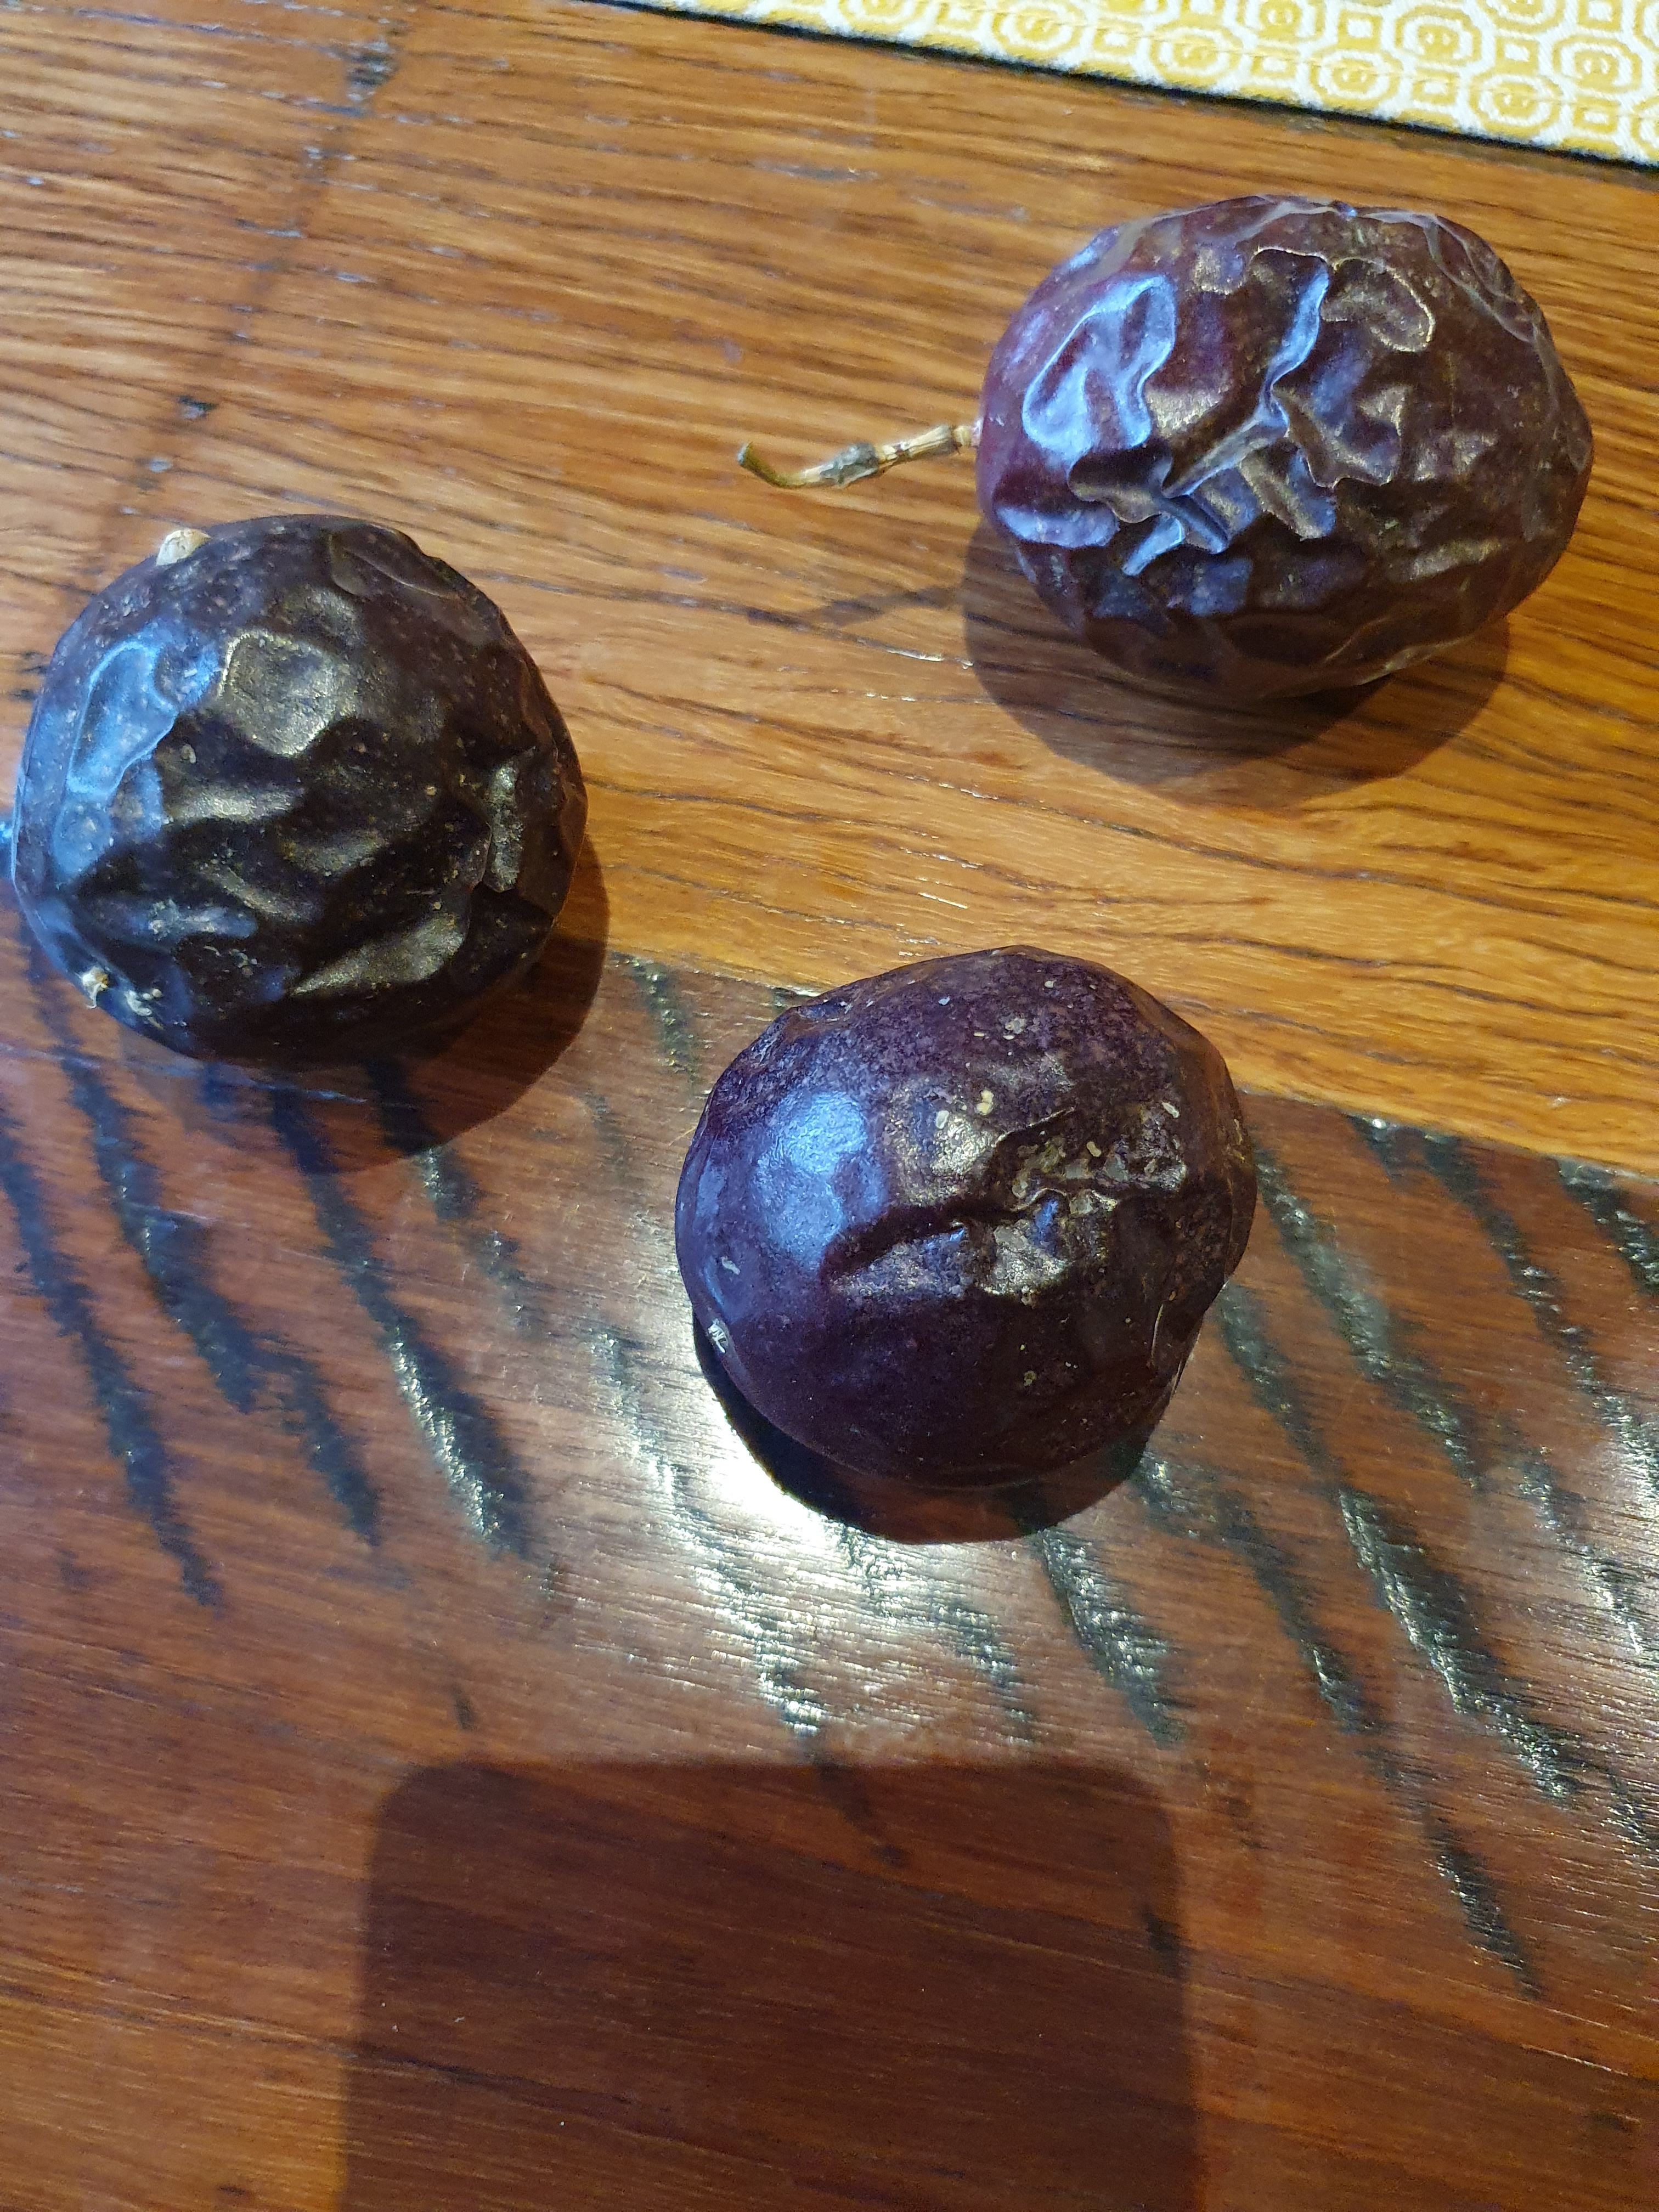passionfruit: (701, 183, 1607, 737), (3, 493, 603, 1082), (673, 939, 1269, 1507)
